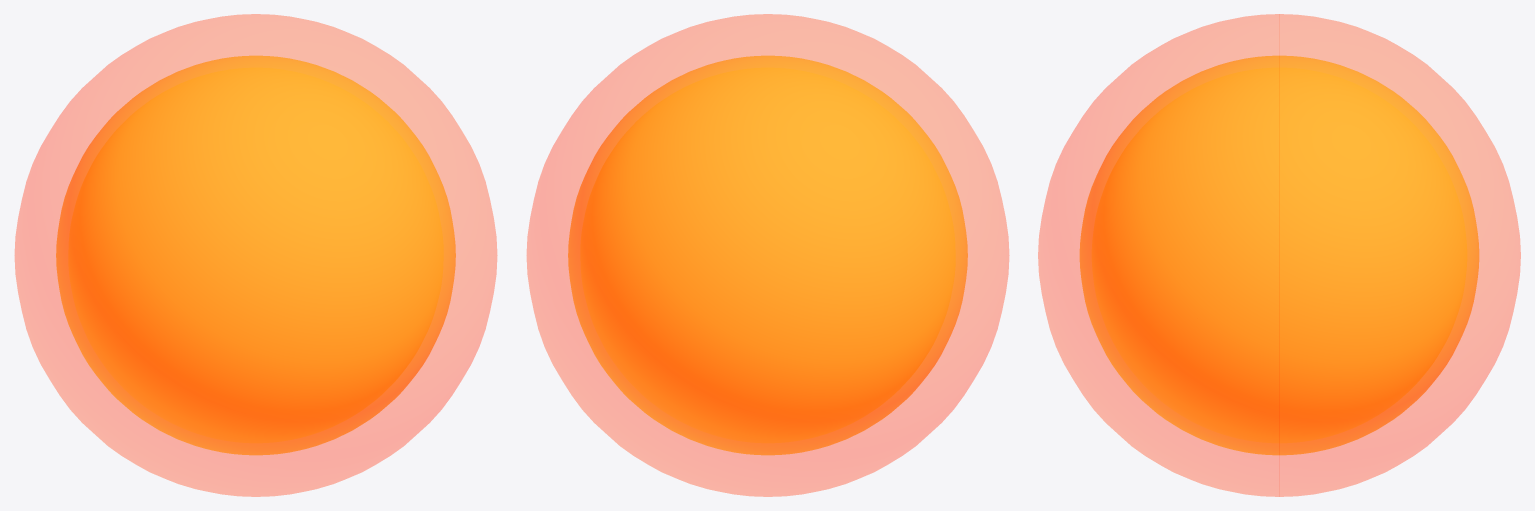
File: sun.gltf
3 renders of one model, left to right at view 1: azimuth 30°, elevation 25°; view 2: azimuth 150°, elevation 25°; view 3: azimuth 270°, elevation 25°, orthographic.
Visible parts, largest first — view 1: Sun_Corona_Shell, Sun_Chromosphere_Shell, Sun_Photosphere_Core; view 2: Sun_Corona_Shell, Sun_Chromosphere_Shell, Sun_Photosphere_Core; view 3: Sun_Corona_Shell, Sun_Chromosphere_Shell, Sun_Photosphere_Core.
Boxes of the visible parts, bbox=[...] form: Sun_Corona_Shell: bbox=[14, 14, 497, 496]; Sun_Chromosphere_Shell: bbox=[56, 55, 455, 455]; Sun_Photosphere_Core: bbox=[69, 68, 442, 442]; Sun_Corona_Shell: bbox=[526, 14, 1009, 496]; Sun_Chromosphere_Shell: bbox=[568, 55, 967, 455]; Sun_Photosphere_Core: bbox=[581, 68, 954, 442]; Sun_Corona_Shell: bbox=[1038, 14, 1520, 496]; Sun_Chromosphere_Shell: bbox=[1079, 55, 1479, 455]; Sun_Photosphere_Core: bbox=[1092, 68, 1466, 442].
Bounding box in the file's own units: 7.2 × 7.2 × 7.2.
